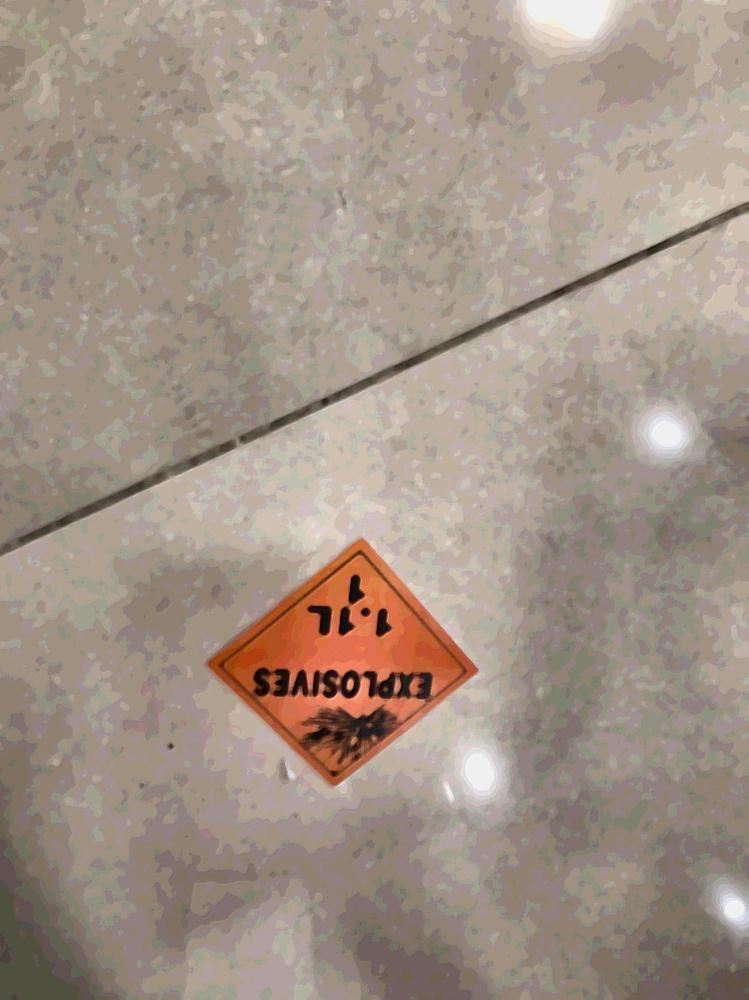explosive: (202, 536, 479, 789)
